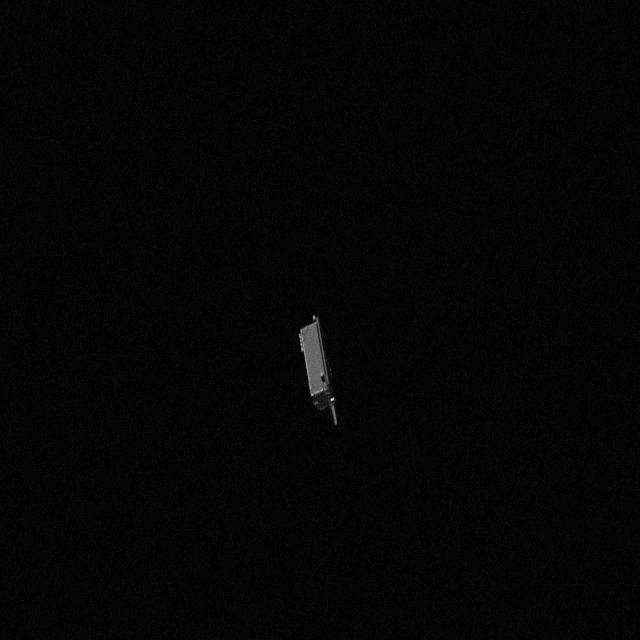medium_debris: (284, 318, 348, 424)
